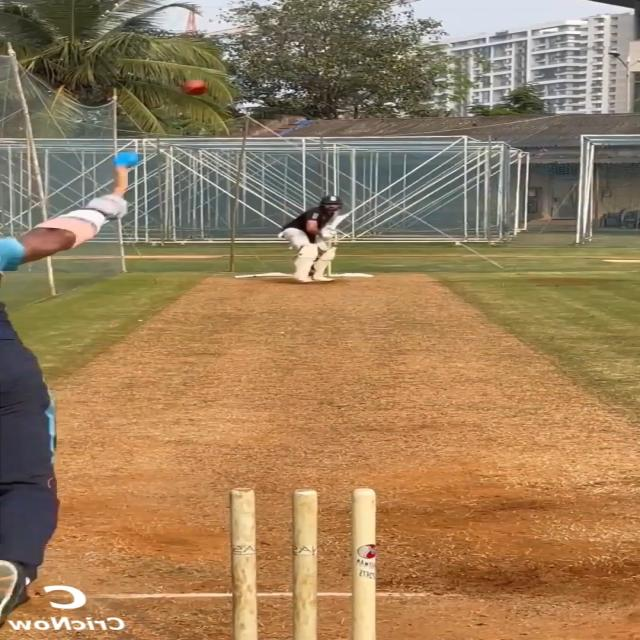ball: (180, 78, 210, 97)
stump: (226, 483, 381, 640)
